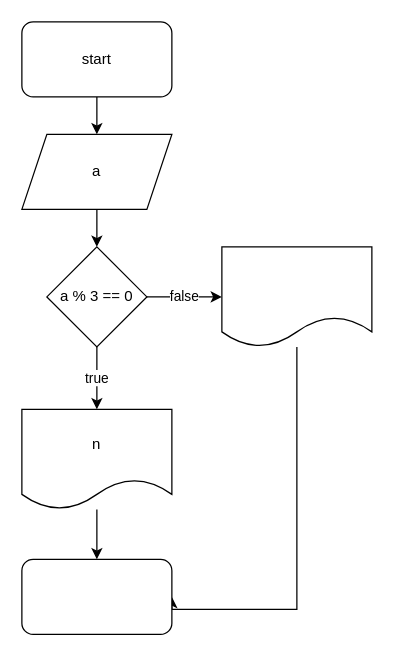
Image size: 394x656. Some labels were removed from this diagram. The centre of each missing label's shape, as x and y in pixels:
"a ədədi 3-ə bölünmür" belongs at point (296, 296).
"end" belongs at point (96, 596).
